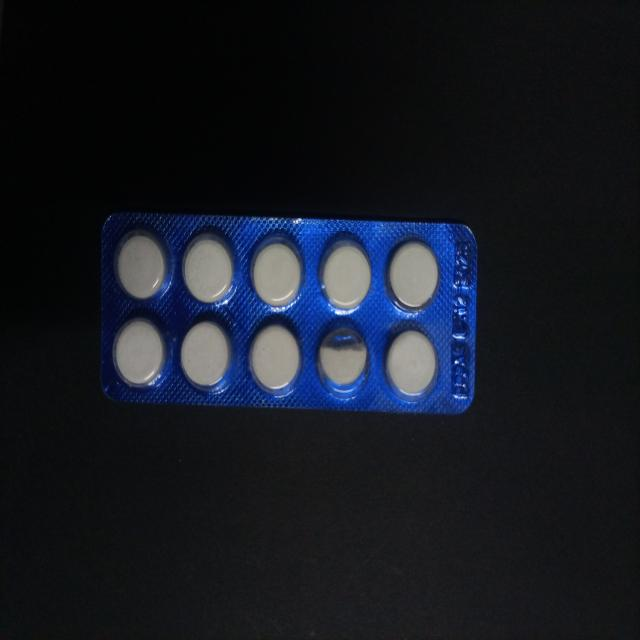defect: (314, 324, 372, 400)
